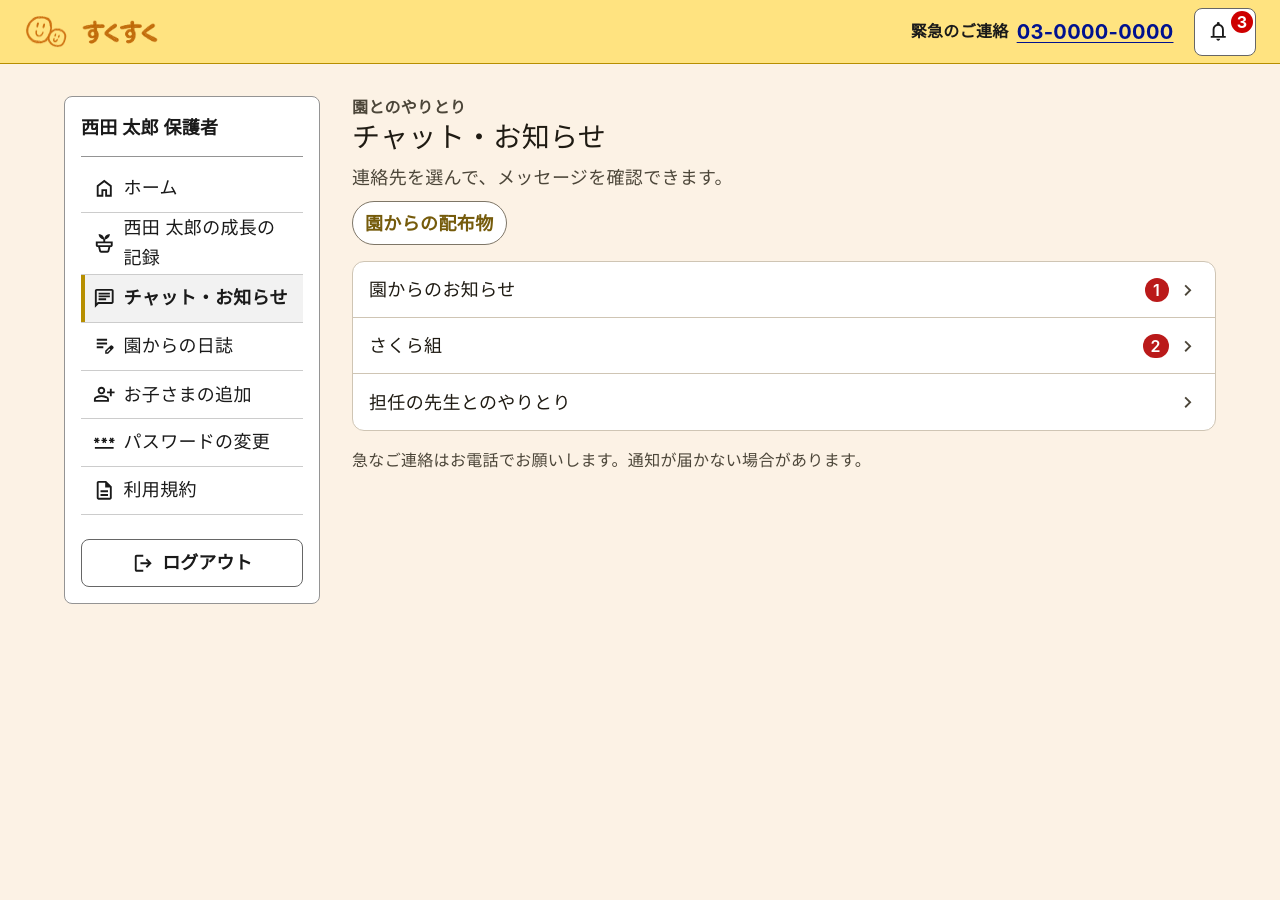
Scenario: 保護者のクラスのチャンネルに「園からのお知らせ」の文言を出さない（GitHub Issue #178 の 5） › 園からのお知らせには設計の文言、クラスのチャンネルにはクラスのお知らせである旨を出す
Click the button with class "guardian-room-link" showing "さくら組 2" at (406, 346), box [353,318,1215,374]
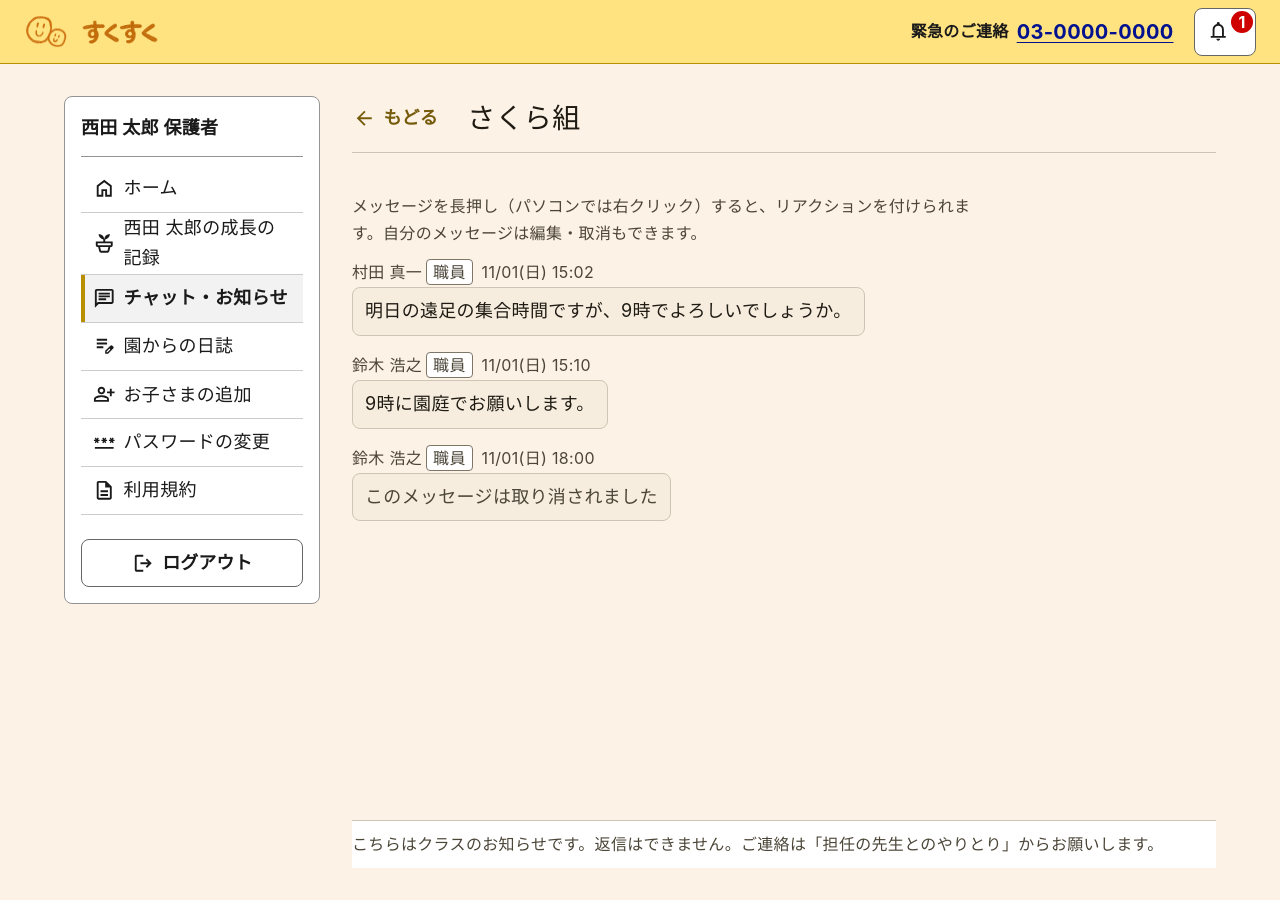
Check: the text "こちらは園からのお知らせです。" is not shown
Check: the text "こちらはクラスのお知らせです。返信はできません。" is shown, box [352,834,1164,854]
Click the button "もどる" at (396, 118), box [340,96,451,140]
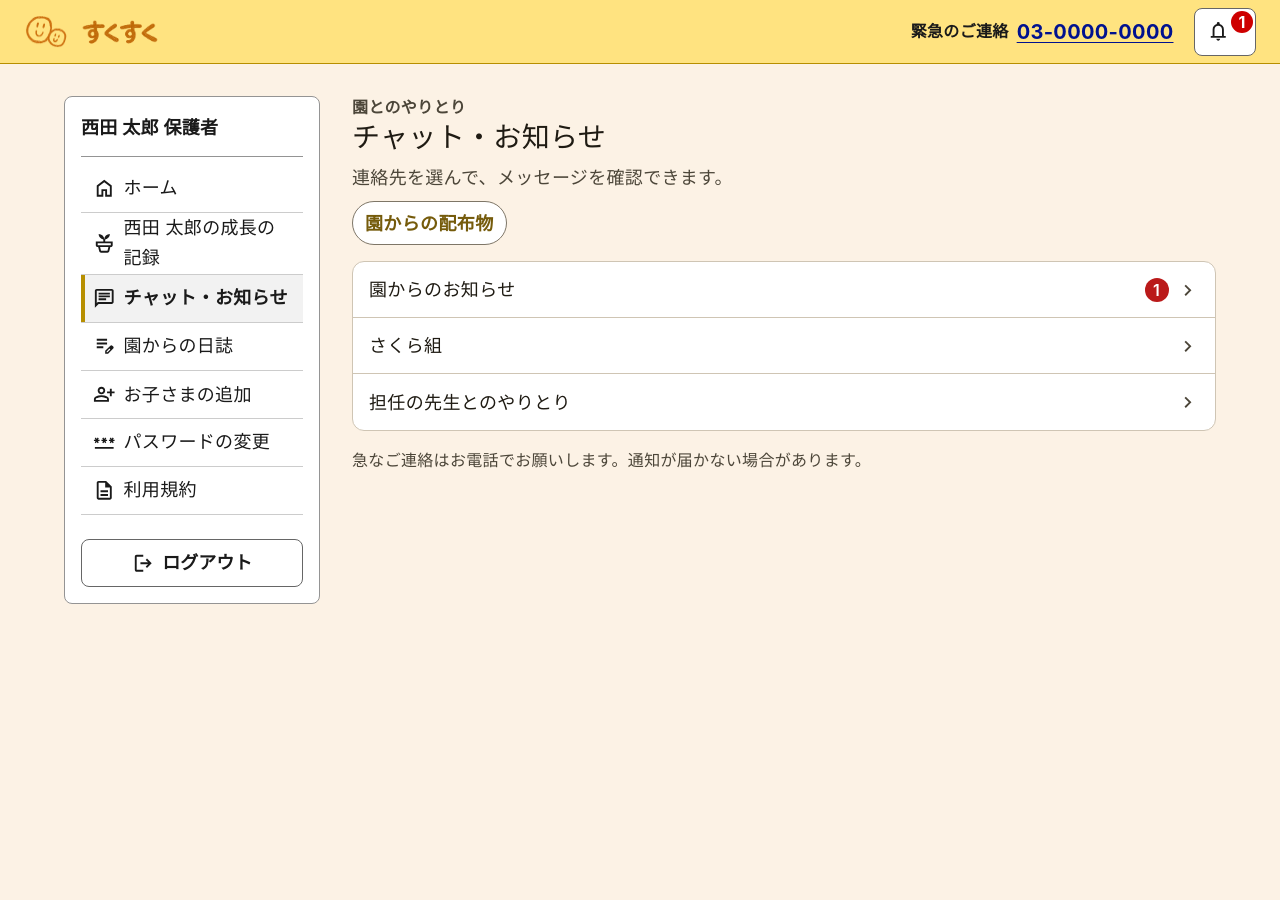
Check: the button with class "guardian-room-link" showing "園からのお知らせ 1" is shown
Click the button with class "guardian-room-link" showing "園からのお知らせ 1" at (442, 290), box [353,262,1215,318]
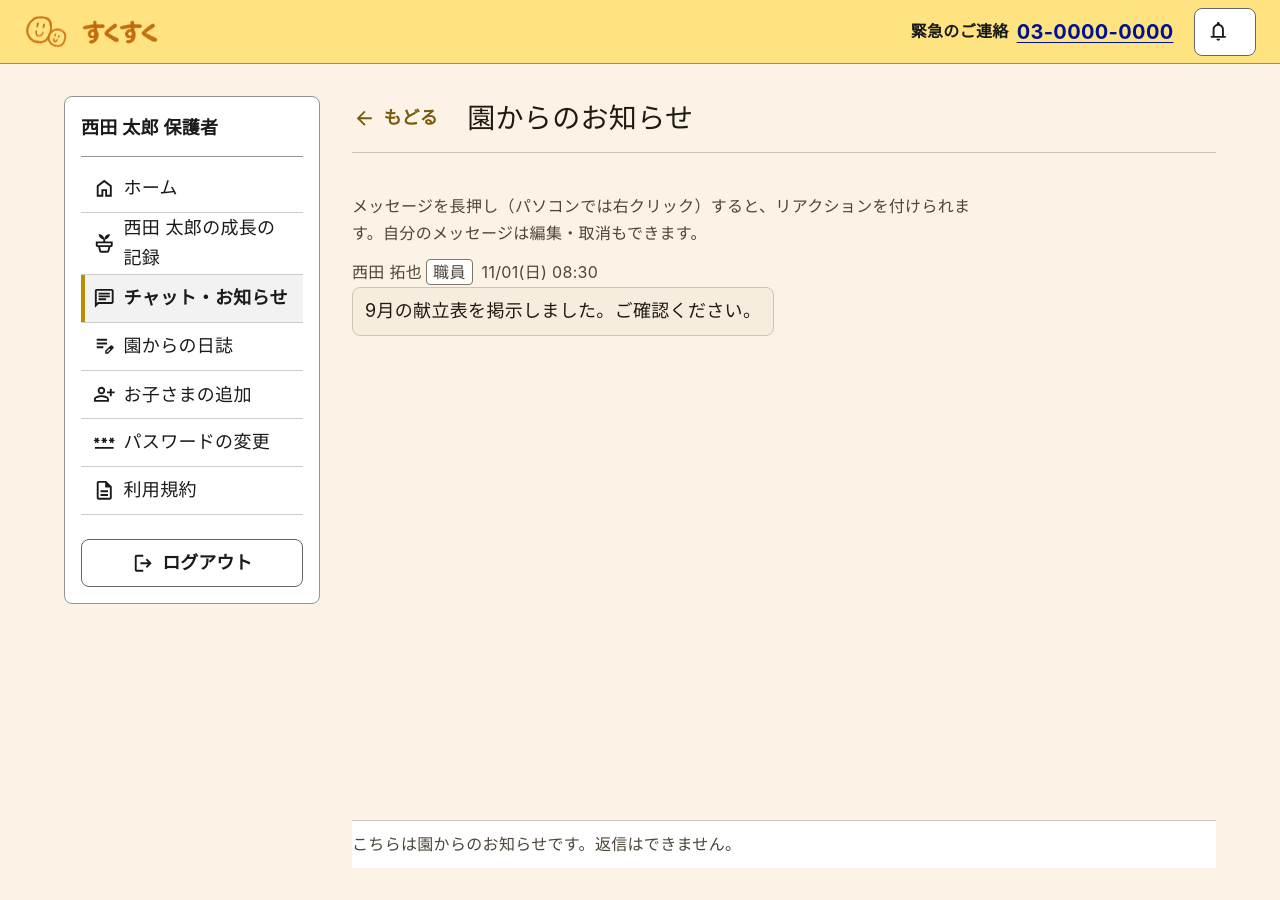
Check: the text "こちらは園からのお知らせです。返信はできません。" is shown, box [352,834,741,854]
